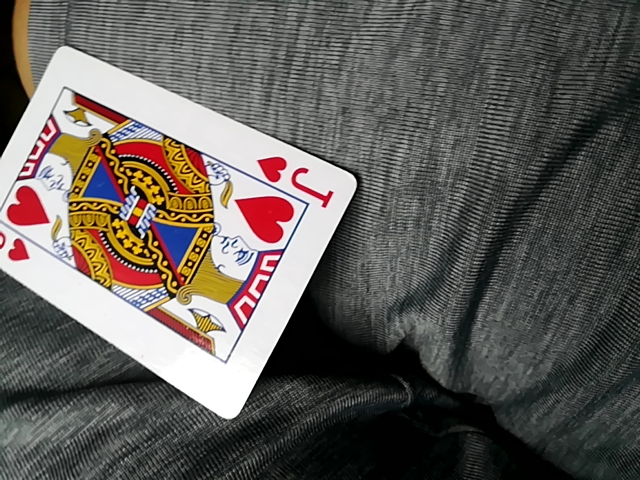hx j: (5, 42, 356, 422)
